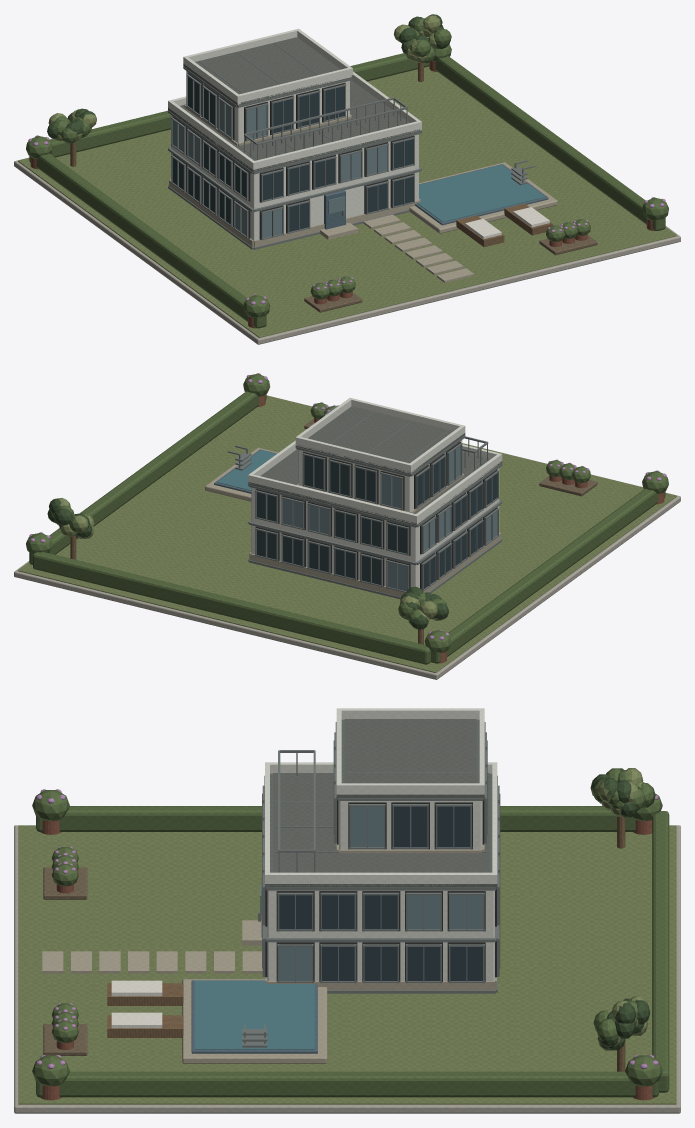
The model's file is EXP_VILLA_POOL.glb.
3 views of the same model, one above another, from view 1: azimuth 30°, elevation 25°; view 2: azimuth 150°, elevation 25°; view 3: azimuth 270°, elevation 25° (orthographic). The views are drawn at different scales.
Parts seen in each view (by area): view 1: EXP_VILLA_POOL_Visual; view 2: EXP_VILLA_POOL_Visual; view 3: EXP_VILLA_POOL_Visual.
Part boxes in pixels (bbox=[...]): EXP_VILLA_POOL_Visual: bbox=[14, 14, 680, 344]; EXP_VILLA_POOL_Visual: bbox=[14, 373, 680, 679]; EXP_VILLA_POOL_Visual: bbox=[14, 708, 680, 1113].
Size of what is drawn, in the model's own units: 7.92 by 2.48 by 7.92.
20 materials, 15 textured.
